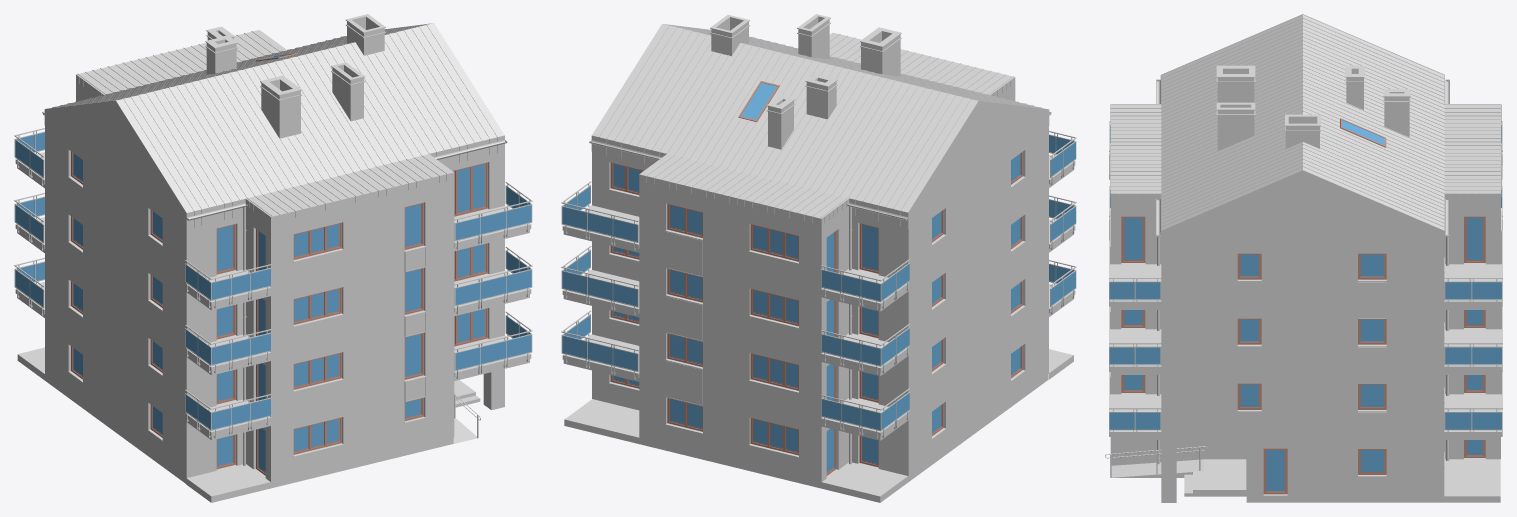
File: BuildingPro.fbx
The picture shows the model from 3 angles, left to right: view 1: azimuth 30°, elevation 25°; view 2: azimuth 150°, elevation 25°; view 3: azimuth 270°, elevation 25°; orthographic projection.
Parts seen in each view (by area): view 1: building_walls, roof, foundation_wall, window.005, barrels, chimney, balcony, metal_cover, terrace, boards, eneter_floor, gutters.003; view 2: building_walls, roof, foundation_wall, window.005, barrels, chimney, balcony, terrace, boards.001, metal_cover, window_roof, gutters.003; view 3: building_walls, roof, foundation_wall, window.005, barrels, balcony, chimney, boards.001, eneter_floor, terrace, metal_cover, roof_plate (+3 smaller).
Boxes of the visible parts, x1=… form: building_walls: x1=45, y1=81, x2=504, y2=417; roof: x1=44, y1=23, x2=504, y2=229; foundation_wall: x1=45, y1=310, x2=454, y2=488; window.005: x1=68, y1=151, x2=487, y2=475; barrels: x1=14, y1=128, x2=532, y2=438; chimney: x1=205, y1=14, x2=385, y2=138; balcony: x1=17, y1=152, x2=529, y2=440; metal_cover: x1=15, y1=152, x2=531, y2=436; terrace: x1=17, y1=347, x2=270, y2=502; boards: x1=404, y1=246, x2=426, y2=402; eneter_floor: x1=453, y1=380, x2=480, y2=443; gutters.003: x1=42, y1=111, x2=507, y2=220; building_walls: x1=592, y1=84, x2=1048, y2=417; roof: x1=591, y1=23, x2=1049, y2=228; foundation_wall: x1=592, y1=309, x2=1048, y2=488; window.005: x1=609, y1=152, x2=1025, y2=475; barrels: x1=561, y1=130, x2=1076, y2=438; chimney: x1=710, y1=14, x2=901, y2=149; balcony: x1=563, y1=155, x2=1073, y2=440; terrace: x1=564, y1=349, x2=1073, y2=502; boards.001: x1=665, y1=232, x2=702, y2=406; metal_cover: x1=562, y1=155, x2=1075, y2=436; window_roof: x1=738, y1=81, x2=779, y2=121; gutters.003: x1=589, y1=111, x2=1051, y2=220; building_walls: x1=1110, y1=179, x2=1500, y2=502; roof: x1=1110, y1=14, x2=1501, y2=246; foundation_wall: x1=1110, y1=431, x2=1500, y2=502; window.005: x1=1110, y1=165, x2=1502, y2=496; barrels: x1=1109, y1=121, x2=1502, y2=438; balcony: x1=1110, y1=263, x2=1500, y2=439; chimney: x1=1216, y1=65, x2=1410, y2=151; boards.001: x1=1358, y1=213, x2=1501, y2=448; eneter_floor: x1=1111, y1=459, x2=1246, y2=496; terrace: x1=1444, y1=458, x2=1500, y2=502; metal_cover: x1=1109, y1=145, x2=1501, y2=436; roof_plate: x1=1110, y1=193, x2=1500, y2=200.
Bounding box in the file's own units: 1555 × 1789 × 1663.
